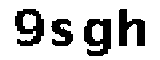9: (9, 5, 46, 49)
g: (80, 16, 113, 60)
h: (114, 6, 150, 54)
s: (49, 17, 76, 49)
